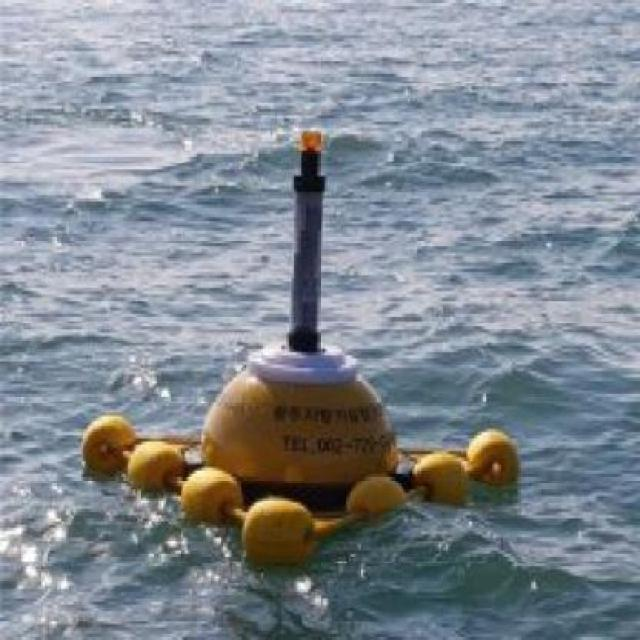a: (74, 123, 528, 564)
